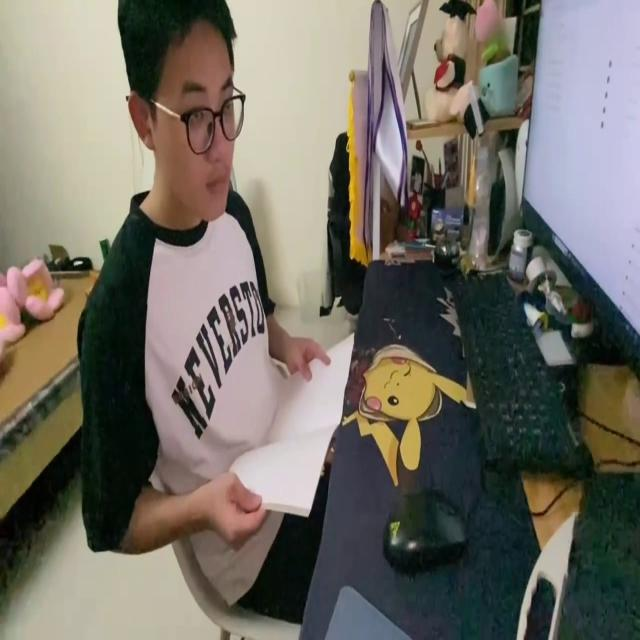book: (226, 331, 360, 520)
laptop: (521, 3, 640, 391)
student: (74, 0, 334, 619)
